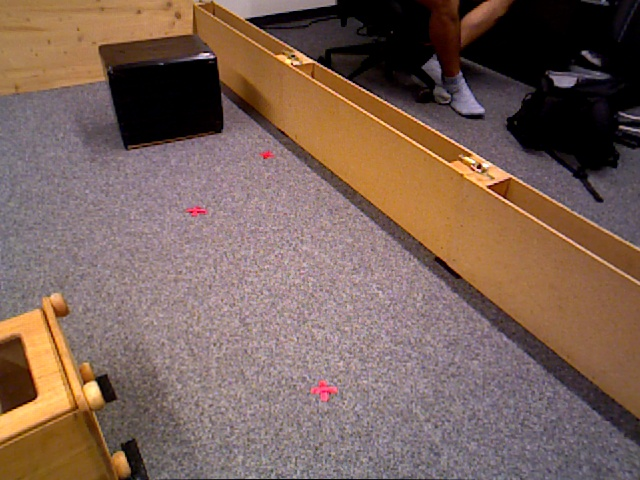push: (100, 41, 223, 145)
